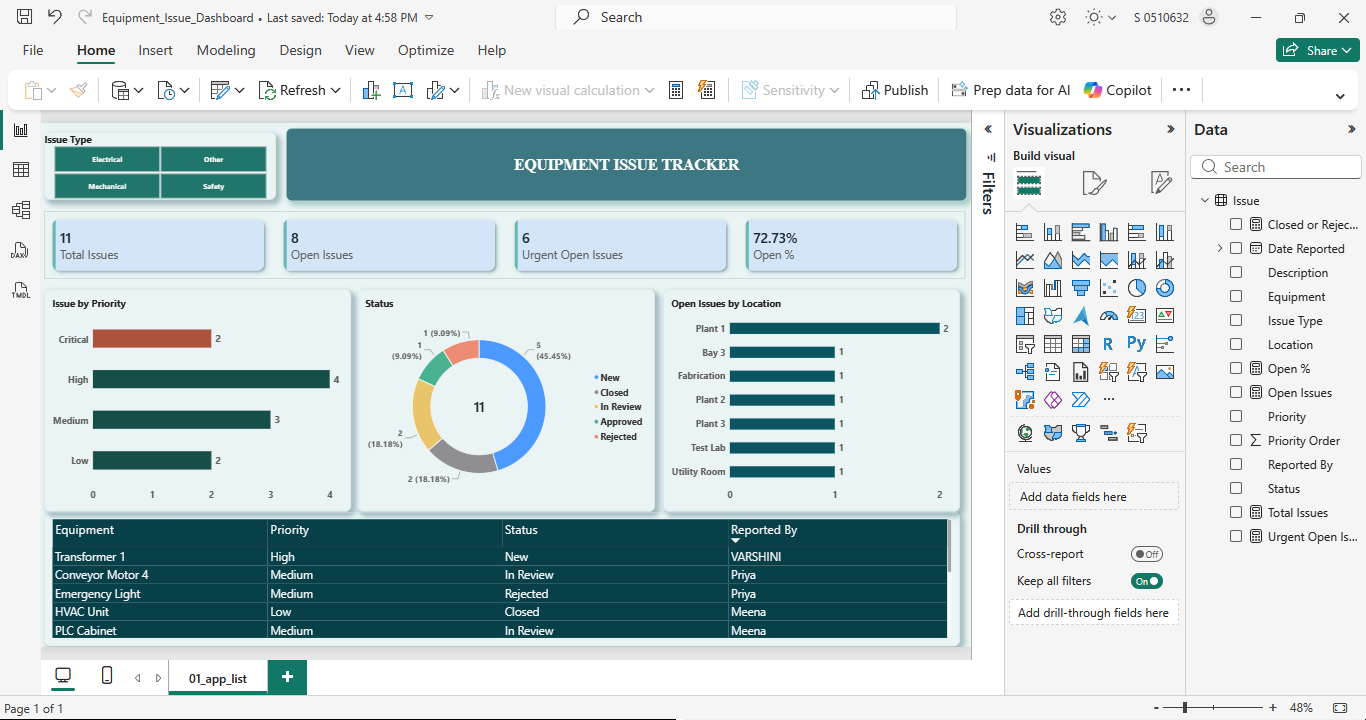

What the dashboard file says about the page in this screenshot:
{"tool":"powerbi","page":{"name":"01_app_list","canvas":[1920,1080],"ordinal":0},"visuals":[{"type":"cardVisual","title":"Issue Type","fields":{"Data":["Issue.Total Issues","Issue.Open Issues","Issue.Urgent Open Issues","Issue.Open %"]},"box":[6.2,181.7,1905.5,140.4],"z":0},{"type":"slicer","title":"Issue Type","fields":{"Values":["Issue.Issue Type"]},"box":[6.2,18.6,479,140.4],"z":1000},{"type":"clusteredBarChart","title":"Issue by Priority","fields":{"Category":["Issue.Priority"],"Y":["Issue.Total Issues"]},"box":[6.2,342.7,633.8,460.4],"z":2000},{"type":"clusteredBarChart","title":"Open Issues by Location","fields":{"Category":["Issue.Location"],"Y":["Issue.Open Issues"]},"box":[1284.1,342.7,613.2,460.4],"z":3000},{"type":"donutChart","title":"Status","fields":{"Category":["Issue.Status"],"Y":["Issue.Total Issues"]},"box":[652.4,342.7,615.2,460.4],"z":4000},{"type":"tableEx","title":"Issue Type","fields":{"Values":["Issue.Equipment","Issue.Priority","Issue.Status","Issue.Reported By"]},"box":[6.2,803.1,1891.1,276.6],"z":5000},{"type":"textbox","box":[505.8,10.3,1405.9,150.7],"z":6000}]}

Visuals, with their boxes on the page's 1920x1080 design canvas (x1, y1, x2, y2). These are canvas units, not pixel positions in the 1366x720 screenshot, which may show the page scaled, cropped or inside an application window:
"Issue Type" cardVisual: x1=6 y1=182 x2=1912 y2=322
"Issue Type" slicer: x1=6 y1=19 x2=485 y2=159
"Issue by Priority" clusteredBarChart: x1=6 y1=343 x2=640 y2=803
"Open Issues by Location" clusteredBarChart: x1=1284 y1=343 x2=1897 y2=803
"Status" donutChart: x1=652 y1=343 x2=1268 y2=803
"Issue Type" tableEx: x1=6 y1=803 x2=1897 y2=1080
textbox: x1=506 y1=10 x2=1912 y2=161
